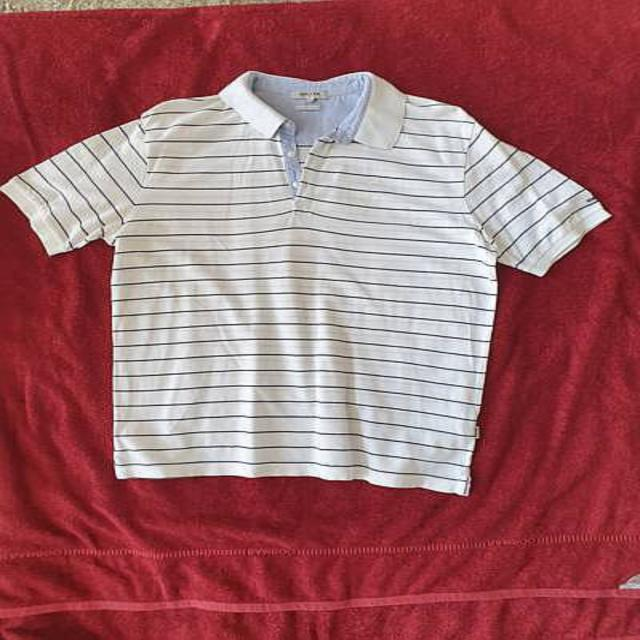T_SHIRT: (0, 62, 619, 501)
